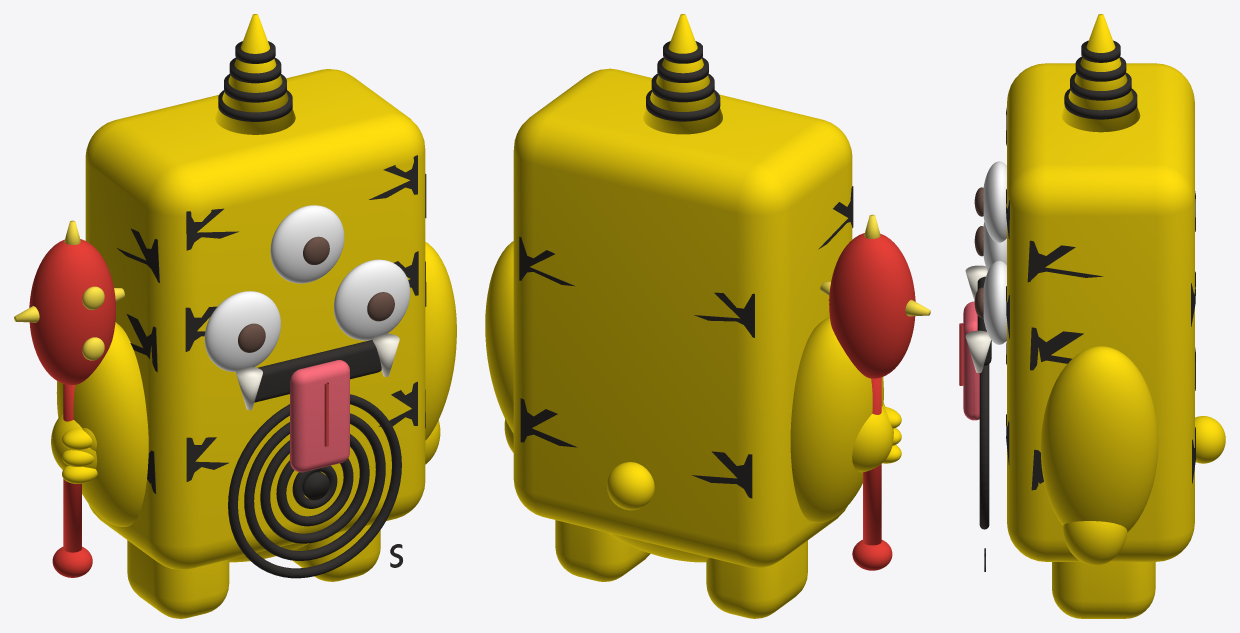
The model's file is arya_v4.glb.
3 renders of one model, left to right at view 1: azimuth 30°, elevation 25°; view 2: azimuth 150°, elevation 25°; view 3: azimuth 270°, elevation 25°, orthographic. The views are drawn at different scales.
Parts seen in each view (by area): view 1: BODY, ARM.L, CLUB.HEAD, TONGUE, BELLY_RING.5, LEG.L, ARM.R, EYE.RIGHT, EYE.LEFT, EYE.TOP, BELLY_RING.4, HORN.CENTER (+24 smaller); view 2: BODY, ARM.L, CLUB.HEAD, LEG.L, ARM.R, LEG.R, HORN.CENTER, HAND.CLUB, BACK_NUB, CLUB.HANDLE, STRIPE.BACK.L2, CLUB.KNOB (+7 smaller); view 3: BODY, ARM.R, LEG.R, HORN.CENTER, HAND.FREE, BELLY_RING.5, EYE.RIGHT, EYE.TOP, TONGUE, BACK_NUB, STRIPE.R.2, STRIPE.R.1 (+7 smaller).
Part boxes in pixels (x1=…): BODY: x1=85, y1=69, x2=425, y2=569; ARM.L: x1=56, y1=322, x2=148, y2=526; CLUB.HEAD: x1=29, y1=239, x2=115, y2=385; TONGUE: x1=290, y1=360, x2=349, y2=472; BELLY_RING.5: x1=228, y1=394, x2=401, y2=578; LEG.L: x1=127, y1=540, x2=229, y2=618; ARM.R: x1=425, y1=242, x2=456, y2=440; EYE.RIGHT: x1=334, y1=259, x2=410, y2=340; EYE.LEFT: x1=204, y1=291, x2=280, y2=372; EYE.TOP: x1=270, y1=205, x2=344, y2=283; BELLY_RING.4: x1=244, y1=413, x2=385, y2=560; HORN.CENTER: x1=215, y1=14, x2=295, y2=134; BODY: x1=513, y1=68, x2=852, y2=567; ARM.L: x1=790, y1=316, x2=883, y2=522; CLUB.HEAD: x1=829, y1=233, x2=915, y2=378; LEG.L: x1=706, y1=540, x2=807, y2=618; ARM.R: x1=485, y1=241, x2=513, y2=432; LEG.R: x1=555, y1=520, x2=650, y2=581; HORN.CENTER: x1=643, y1=14, x2=722, y2=134; HAND.CLUB: x1=852, y1=406, x2=893, y2=472; BACK_NUB: x1=607, y1=462, x2=654, y2=510; CLUB.HANDLE: x1=863, y1=377, x2=881, y2=545; STRIPE.BACK.L2: x1=692, y1=451, x2=752, y2=498; CLUB.KNOB: x1=852, y1=539, x2=892, y2=570; BODY: x1=1007, y1=63, x2=1194, y2=561; ARM.R: x1=1040, y1=346, x2=1158, y2=532; LEG.R: x1=1052, y1=562, x2=1155, y2=618; HORN.CENTER: x1=1061, y1=14, x2=1140, y2=132; HAND.FREE: x1=1063, y1=521, x2=1127, y2=565; BELLY_RING.5: x1=979, y1=364, x2=989, y2=529; EYE.RIGHT: x1=983, y1=260, x2=1006, y2=344; EYE.TOP: x1=983, y1=161, x2=1006, y2=242; TONGUE: x1=963, y1=301, x2=979, y2=420; BACK_NUB: x1=1195, y1=416, x2=1225, y2=463; STRIPE.R.2: x1=1030, y1=327, x2=1083, y2=370; STRIPE.R.1: x1=1027, y1=240, x2=1103, y2=282.
Size of the model in its own units: 3.5 by 4.41 by 1.9.
